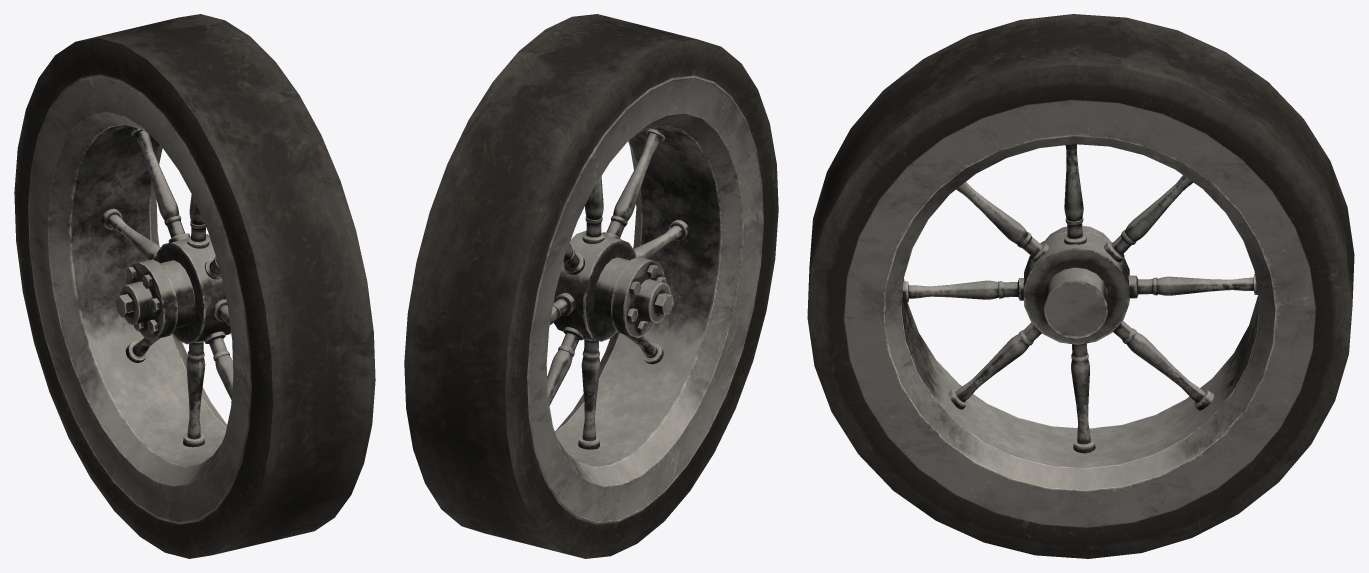
Rendered from VintageCar_WheelRR.fbx.
The picture shows the model from 3 angles, left to right: view 1: azimuth 30°, elevation 25°; view 2: azimuth 150°, elevation 25°; view 3: azimuth 270°, elevation 25°; orthographic projection. The views are drawn at different scales.
Parts seen in each view (by area): view 1: VintageCar_WheelRR; view 2: VintageCar_WheelRR; view 3: VintageCar_WheelRR.
Part boxes in pixels (left/top/right/bottom): VintageCar_WheelRR: left=14, top=14, right=375, bottom=558; VintageCar_WheelRR: left=404, top=14, right=778, bottom=558; VintageCar_WheelRR: left=807, top=14, right=1354, bottom=558.
Size of the model in its own units: 25.92 by 87.75 by 88.05.
Materials: 1 (1 with a texture image).
